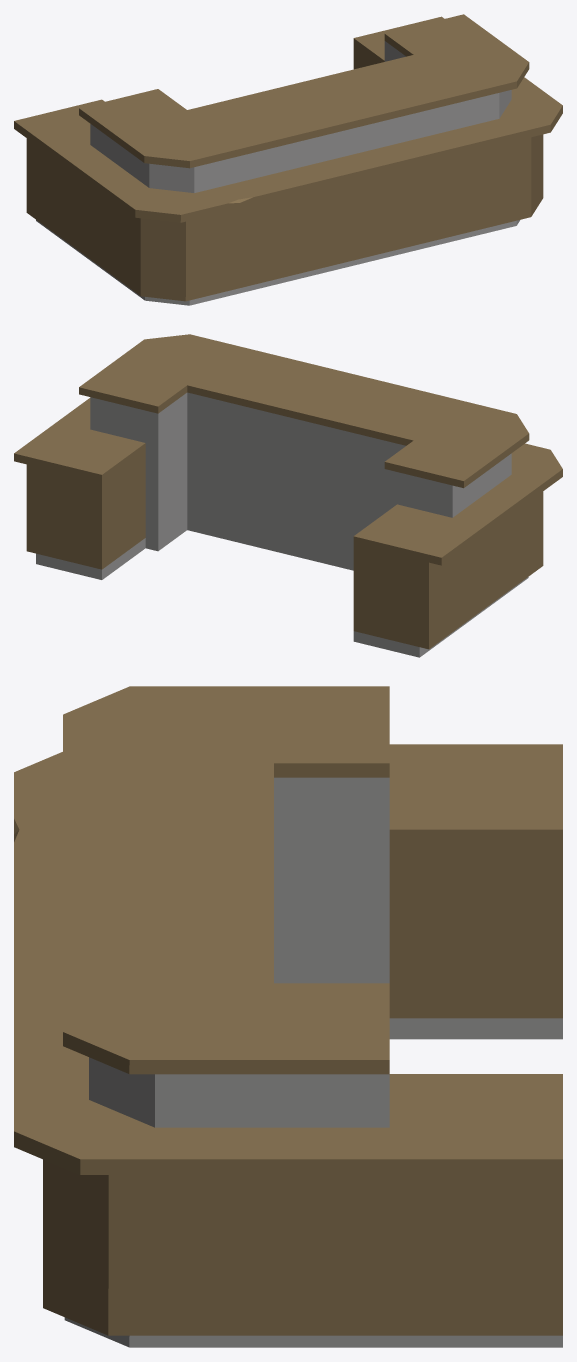
The model's file is SM_Props_Interior_Shop_Counter_06.fbx.
3 renders of one model, top to bottom at view 1: azimuth 30°, elevation 25°; view 2: azimuth 150°, elevation 25°; view 3: azimuth 270°, elevation 25°, orthographic. The views are drawn at different scales.
Visible parts, largest first — view 1: SM_Props_Interior_Shop_Counter_06; view 2: SM_Props_Interior_Shop_Counter_06; view 3: SM_Props_Interior_Shop_Counter_06.
Part boxes in pixels (left/top/right/bottom): SM_Props_Interior_Shop_Counter_06: left=14, top=14, right=562, bottom=305; SM_Props_Interior_Shop_Counter_06: left=14, top=334, right=562, bottom=657; SM_Props_Interior_Shop_Counter_06: left=14, top=686, right=562, bottom=1347.
Size of the model in its own units: 340 by 110 by 190.
